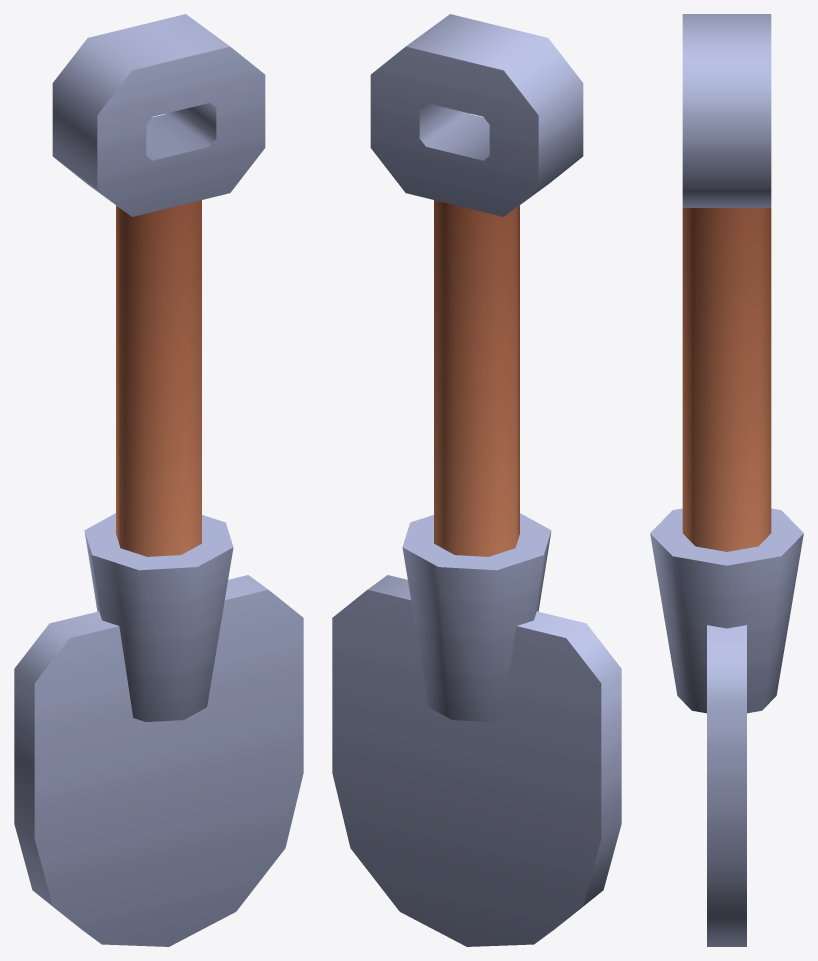
File: grave.shovel.glb
3 views of the same model, side by side, from view 1: azimuth 30°, elevation 25°; view 2: azimuth 150°, elevation 25°; view 3: azimuth 270°, elevation 25° (orthographic).
Visible parts, largest first — view 1: shovel; view 2: shovel; view 3: shovel.
Part boxes in pixels (x1=…): shovel: x1=14, y1=14, x2=303, y2=946; shovel: x1=332, y1=14, x2=621, y2=946; shovel: x1=650, y1=14, x2=803, y2=946.
Bounding box in the file's own units: 0.2062 × 0.6575 × 0.1024.
Materials: 1 (1 with a texture image).
